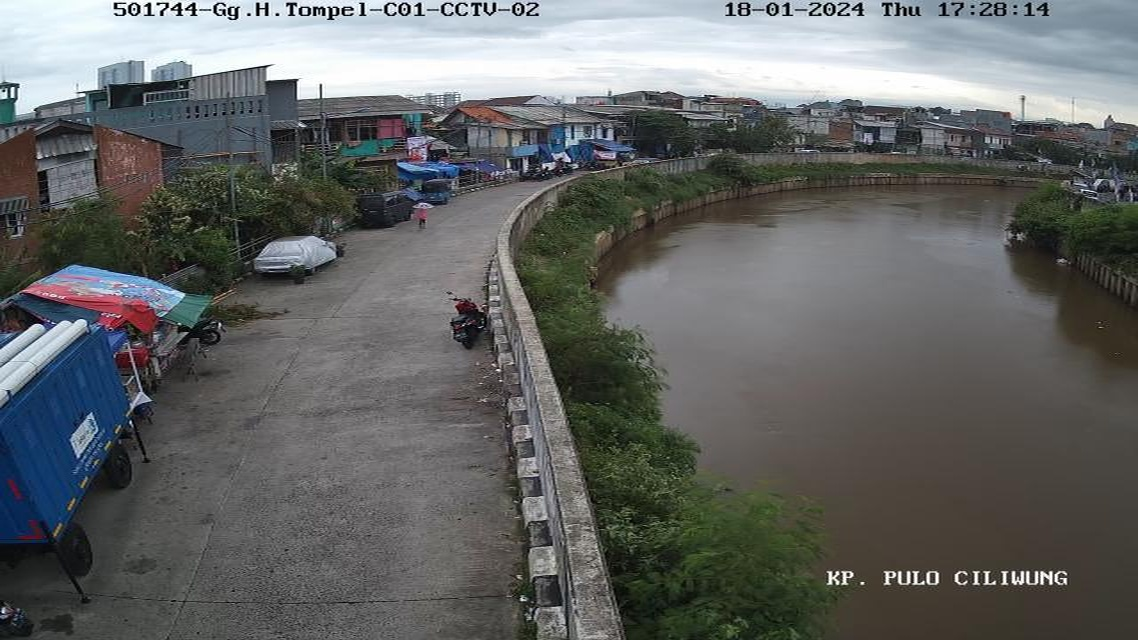Payung: (413, 201, 434, 209)
Terpal: (0, 261, 212, 328), (391, 159, 461, 177), (581, 137, 637, 151), (453, 161, 510, 172)
